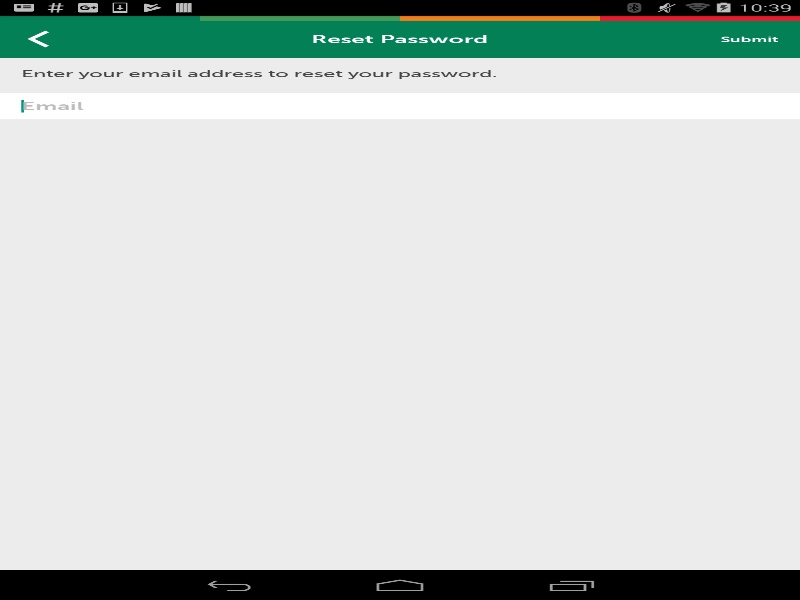Input: (0, 93, 800, 119), (21, 93, 800, 119), (21, 123, 800, 149)
